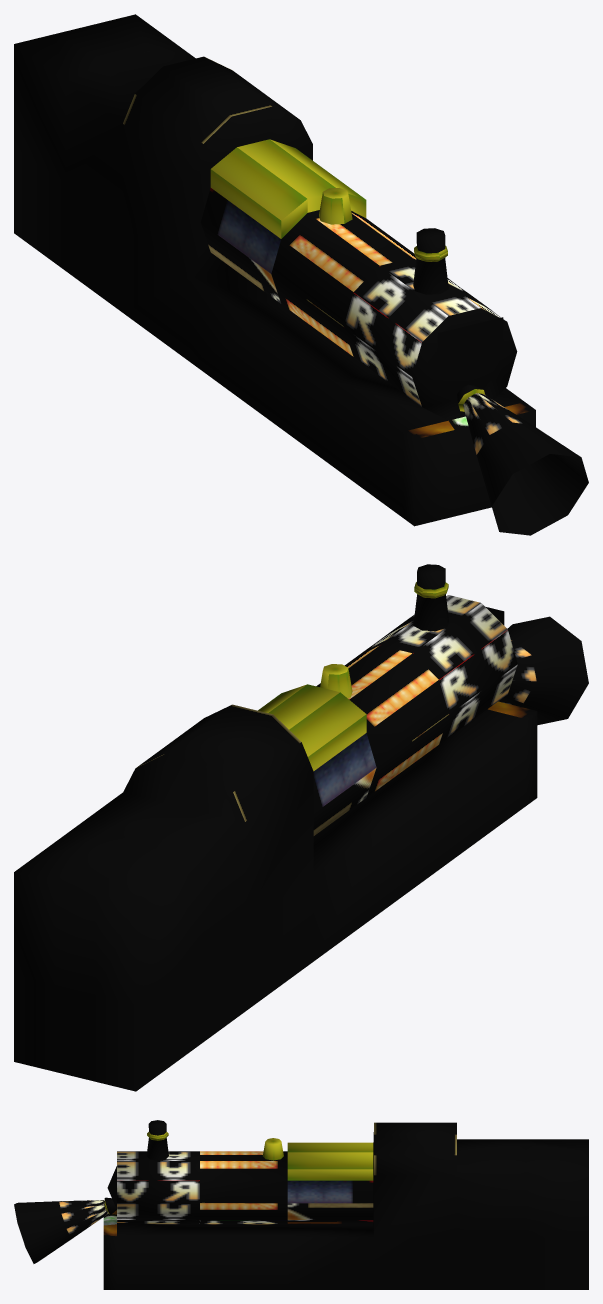
3 renders of one model, top to bottom at view 1: azimuth 30°, elevation 25°; view 2: azimuth 150°, elevation 25°; view 3: azimuth 270°, elevation 25°, orthographic. The views are drawn at different scales.
Parts seen in each view (by area): view 1: T1L1M004_6; view 2: T1L1M004_6; view 3: T1L1M004_6.
Boxes of the visible parts, x1,y1,x2,y2 form: T1L1M004_6: (14, 14, 588, 535); T1L1M004_6: (14, 564, 588, 1091); T1L1M004_6: (14, 1120, 588, 1289).
Size of the model in its own units: 0.6299 by 1.21 by 4.25.
